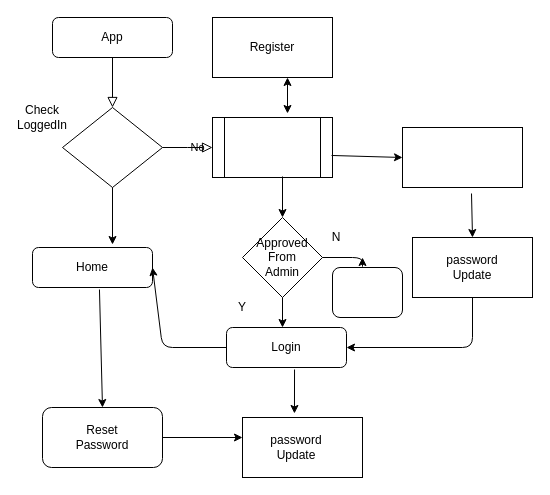
Some shapes in this 550 by 495 pixel diagram are drawn without their labels. Each missing label, with the box of its shape:
Forgot Password: (402, 126, 522, 188)
Is LoggedIn: (62, 106, 162, 188)
LoggedIn: (212, 116, 332, 178)
Rejected: (332, 266, 402, 318)
